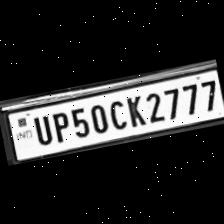0: (86, 99, 110, 135)
2: (140, 88, 165, 124)
5: (65, 103, 91, 139)
7: (195, 75, 221, 112), (178, 80, 202, 116), (160, 84, 182, 119)
C: (104, 95, 128, 131)
K: (122, 92, 146, 128)
P: (47, 107, 72, 143)
U: (27, 111, 53, 147)
